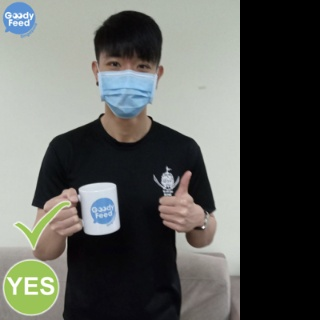with_mask: (97, 54, 156, 121)
